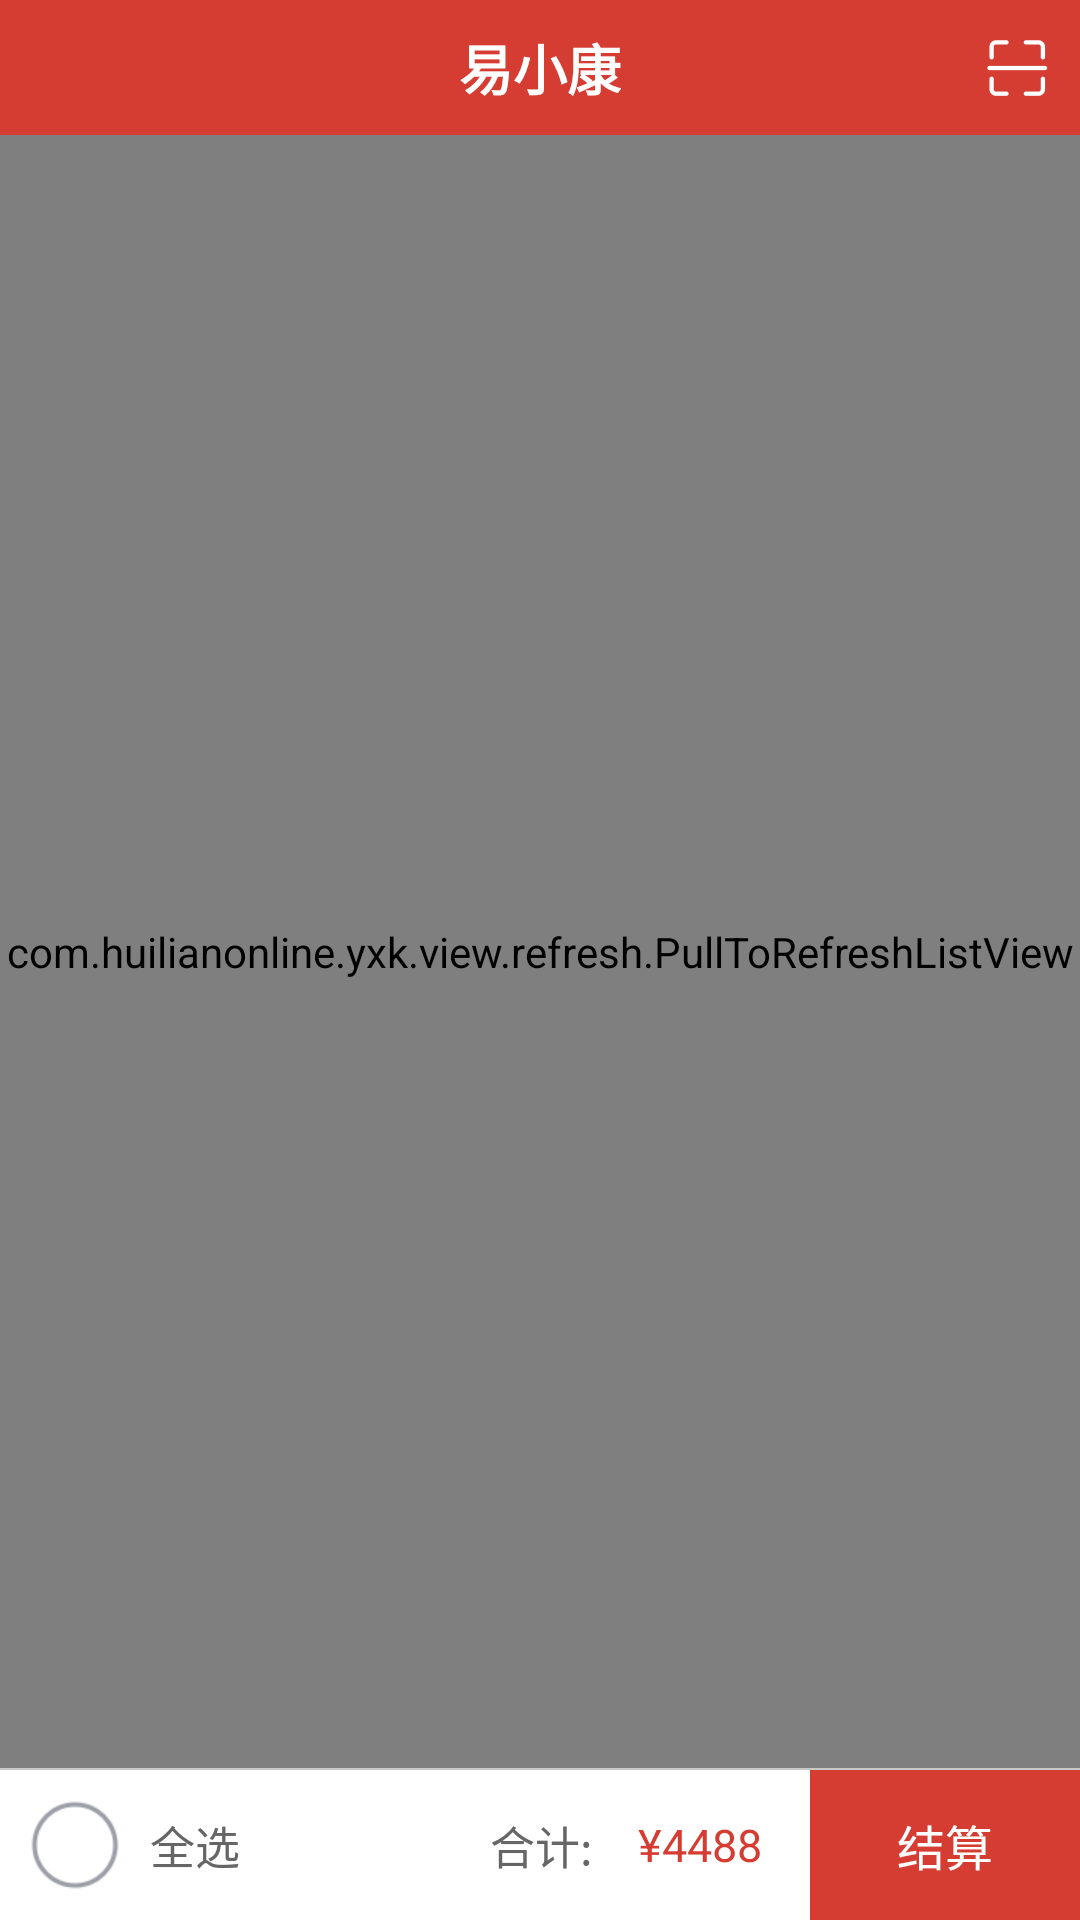

Named icons in this screenshot (1080 x 1920) and their bounding boxes, (x1, y1, x2, y2):
home saoyisao: (987, 40, 1047, 96)
shopcar unselect: (32, 1802, 118, 1888)
